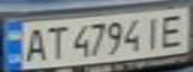4: (121, 16, 148, 53), (69, 20, 90, 58)
7: (87, 19, 109, 57)
9: (103, 18, 127, 56)
A: (18, 25, 51, 63)
E: (157, 10, 190, 48)
I: (139, 12, 166, 51)
T: (42, 24, 69, 61)
